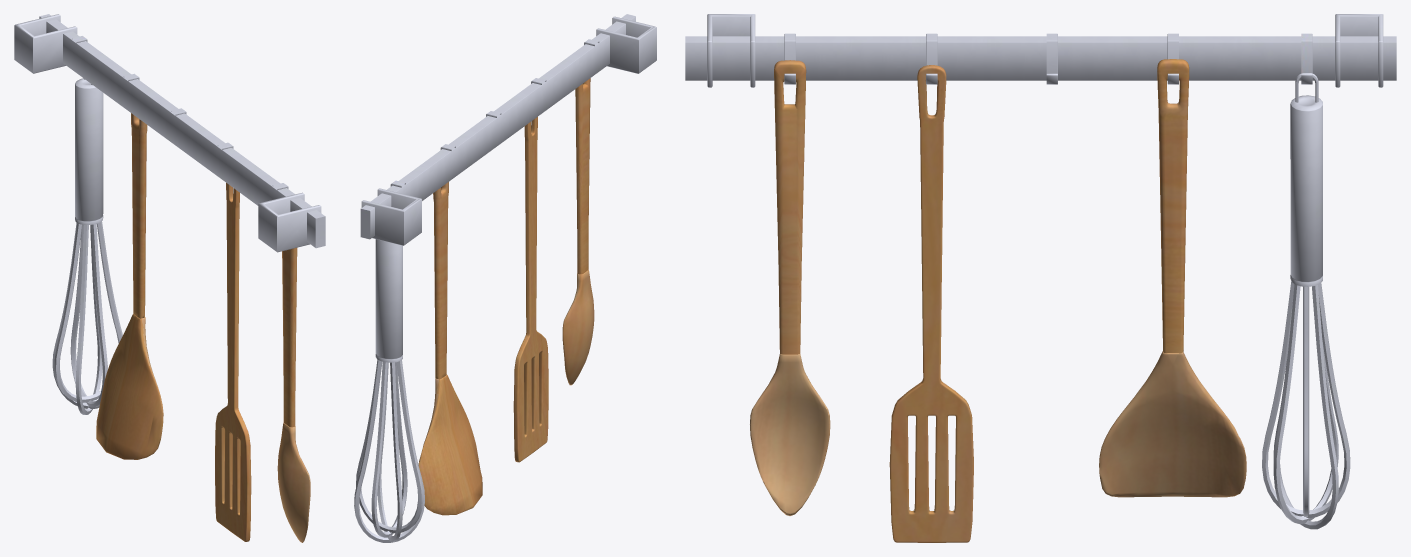
File: aws_KitchenUtensils_01_visual.DAE
The picture shows the model from 3 angles, left to right: view 1: azimuth 30°, elevation 25°; view 2: azimuth 150°, elevation 25°; view 3: azimuth 270°, elevation 25°; orthographic projection. The views are drawn at different scales.
Visible parts, largest first — view 1: aws_KitchenUtensils_01_visual; view 2: aws_KitchenUtensils_01_visual; view 3: aws_KitchenUtensils_01_visual.
Boxes of the visible parts, x1,y1,x2,y2 form: aws_KitchenUtensils_01_visual: (14,14,325,542); aws_KitchenUtensils_01_visual: (354,14,656,542); aws_KitchenUtensils_01_visual: (685,14,1396,542).
Size of the model in its own units: 7.21 by 43.53 by 33.85.
Materials: 1 (1 with a texture image).
